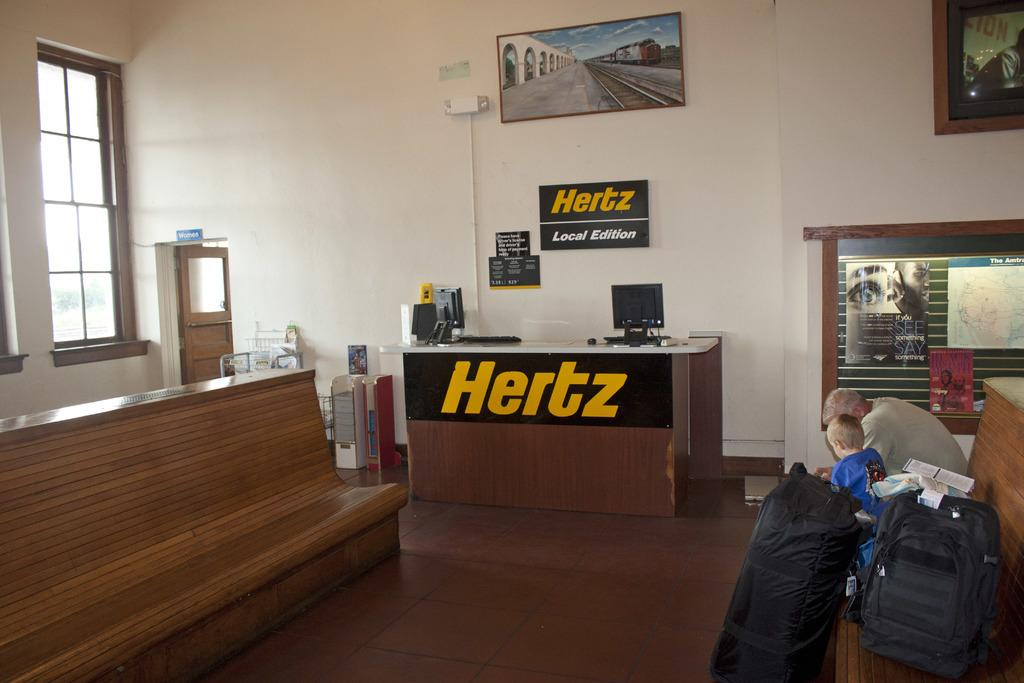Luggage-and-bags: (864, 469, 1013, 665)
